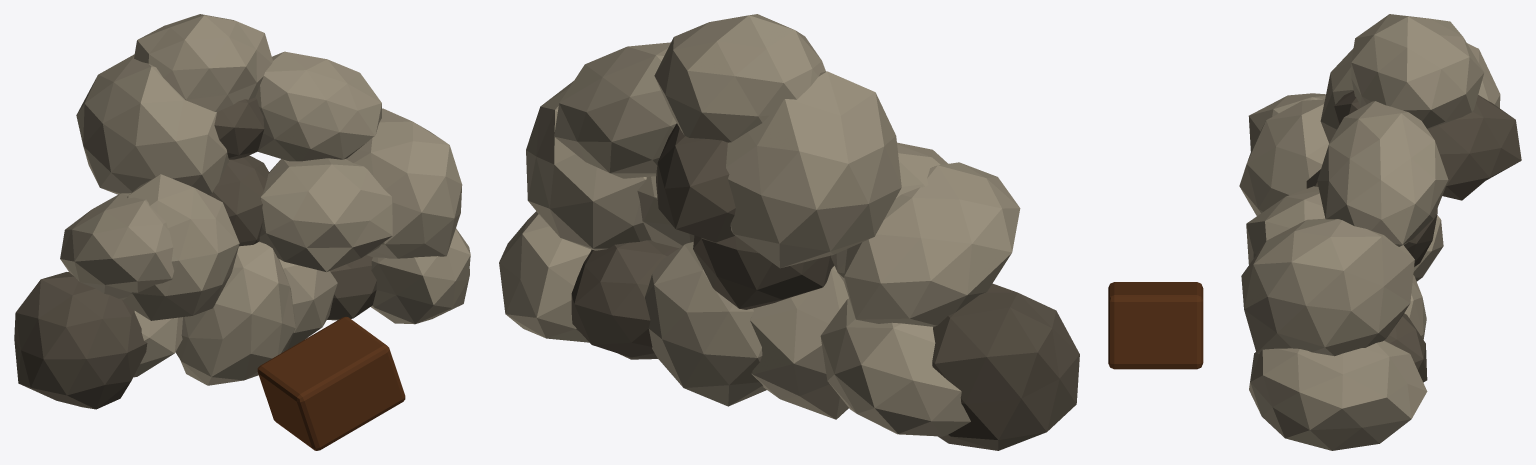
The model's file is triggerable_rock_pile_released.glb.
3 views of the same model, side by side, from view 1: azimuth 30°, elevation 25°; view 2: azimuth 150°, elevation 25°; view 3: azimuth 270°, elevation 25° (orthographic). The views are drawn at different scales.
Visible parts, largest first — view 1: RockPileReleasedStone-11-rigid, RockPileReleasedStone-00-rigid, RockPileReleaseWedge-rigid, RockPileReleasedStone-09-rigid, RockPileReleasedStone-13-rigid, RockPileReleasedStone-02-rigid, RockPileReleasedStone-10-rigid, RockPileReleasedStone-07-rigid, RockPileReleasedStone-14-rigid, RockPileReleasedStone-06-rigid, RockPileReleasedStone-05-rigid, RockPileReleasedStone-08-rigid (+4 smaller); view 2: RockPileReleasedStone-11-rigid, RockPileReleasedStone-06-rigid, RockPileReleasedStone-00-rigid, RockPileReleasedStone-14-rigid, RockPileReleasedStone-01-rigid, RockPileReleasedStone-03-rigid, RockPileReleasedStone-13-rigid, RockPileReleasedStone-10-rigid, RockPileReleasedStone-02-rigid, RockPileReleasedStone-04-rigid, RockPileReleasedStone-05-rigid, RockPileReleasedStone-12-rigid (+3 smaller); view 3: RockPileReleasedStone-10-rigid, RockPileReleasedStone-05-rigid, RockPileReleasedStone-13-rigid, RockPileReleasedStone-14-rigid, RockPileReleaseWedge-rigid, RockPileReleasedStone-07-rigid, RockPileReleasedStone-12-rigid, RockPileReleasedStone-09-rigid, RockPileReleasedStone-11-rigid, RockPileReleasedStone-04-rigid, RockPileReleasedStone-06-rigid, RockPileReleasedStone-08-rigid (+2 smaller).
Part boxes in pixels (x1=…): RockPileReleasedStone-11-rigid: x1=76, y1=54, x2=229, y2=194; RockPileReleasedStone-00-rigid: x1=14, y1=272, x2=147, y2=409; RockPileReleaseWedge-rigid: x1=257, y1=316, x2=405, y2=450; RockPileReleasedStone-09-rigid: x1=259, y1=158, x2=392, y2=271; RockPileReleasedStone-13-rigid: x1=255, y1=51, x2=381, y2=161; RockPileReleasedStone-02-rigid: x1=175, y1=241, x2=295, y2=385; RockPileReleasedStone-10-rigid: x1=346, y1=108, x2=462, y2=258; RockPileReleasedStone-07-rigid: x1=123, y1=174, x2=239, y2=320; RockPileReleasedStone-14-rigid: x1=134, y1=14, x2=272, y2=112; RockPileReleasedStone-06-rigid: x1=60, y1=193, x2=174, y2=299; RockPileReleasedStone-05-rigid: x1=371, y1=228, x2=470, y2=324; RockPileReleasedStone-08-rigid: x1=209, y1=155, x2=269, y2=246; RockPileReleasedStone-11-rigid: x1=726, y1=71, x2=901, y2=268; RockPileReleasedStone-06-rigid: x1=844, y1=162, x2=1020, y2=326; RockPileReleasedStone-00-rigid: x1=932, y1=283, x2=1079, y2=450; RockPileReleasedStone-14-rigid: x1=654, y1=14, x2=825, y2=142; RockPileReleasedStone-01-rigid: x1=820, y1=298, x2=970, y2=436; RockPileReleasedStone-03-rigid: x1=645, y1=242, x2=766, y2=406; RockPileReleasedStone-13-rigid: x1=554, y1=42, x2=676, y2=178; RockPileReleasedStone-10-rigid: x1=526, y1=81, x2=651, y2=250; RockPileReleasedStone-02-rigid: x1=750, y1=266, x2=848, y2=419; RockPileReleasedStone-04-rigid: x1=571, y1=240, x2=678, y2=359; RockPileReleasedStone-05-rigid: x1=499, y1=211, x2=591, y2=342; RockPileReleasedStone-12-rigid: x1=656, y1=123, x2=735, y2=242; RockPileReleasedStone-10-rigid: x1=1241, y1=218, x2=1414, y2=356; RockPileReleasedStone-05-rigid: x1=1249, y1=340, x2=1427, y2=450; RockPileReleasedStone-13-rigid: x1=1317, y1=101, x2=1448, y2=246; RockPileReleasedStone-14-rigid: x1=1351, y1=14, x2=1484, y2=129; RockPileReleaseWedge-rigid: x1=1108, y1=282, x2=1203, y2=369; RockPileReleasedStone-07-rigid: x1=1239, y1=99, x2=1328, y2=215; RockPileReleasedStone-12-rigid: x1=1334, y1=91, x2=1521, y2=200; RockPileReleasedStone-09-rigid: x1=1246, y1=186, x2=1325, y2=264; RockPileReleasedStone-11-rigid: x1=1320, y1=43, x2=1500, y2=143; RockPileReleasedStone-04-rigid: x1=1384, y1=313, x2=1427, y2=382; RockPileReleasedStone-06-rigid: x1=1248, y1=93, x2=1325, y2=150; RockPileReleasedStone-08-rigid: x1=1306, y1=169, x2=1437, y2=266.
Size of the model in its own units: 2.17 by 1.58 by 1.65.
